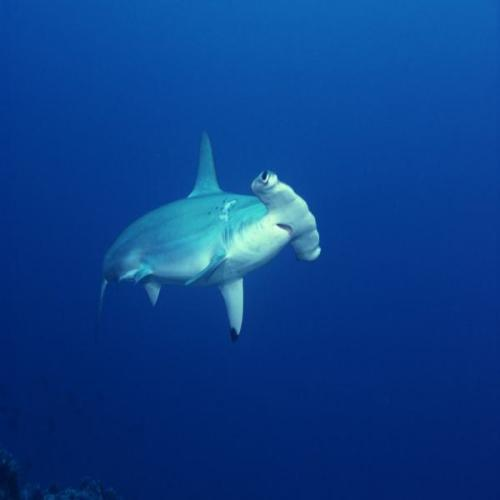shark-endangered: (94, 129, 322, 345)
